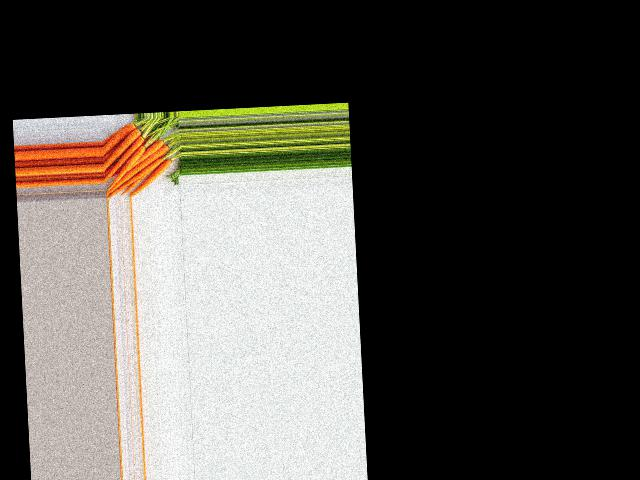carrot: (101, 122, 137, 150)
